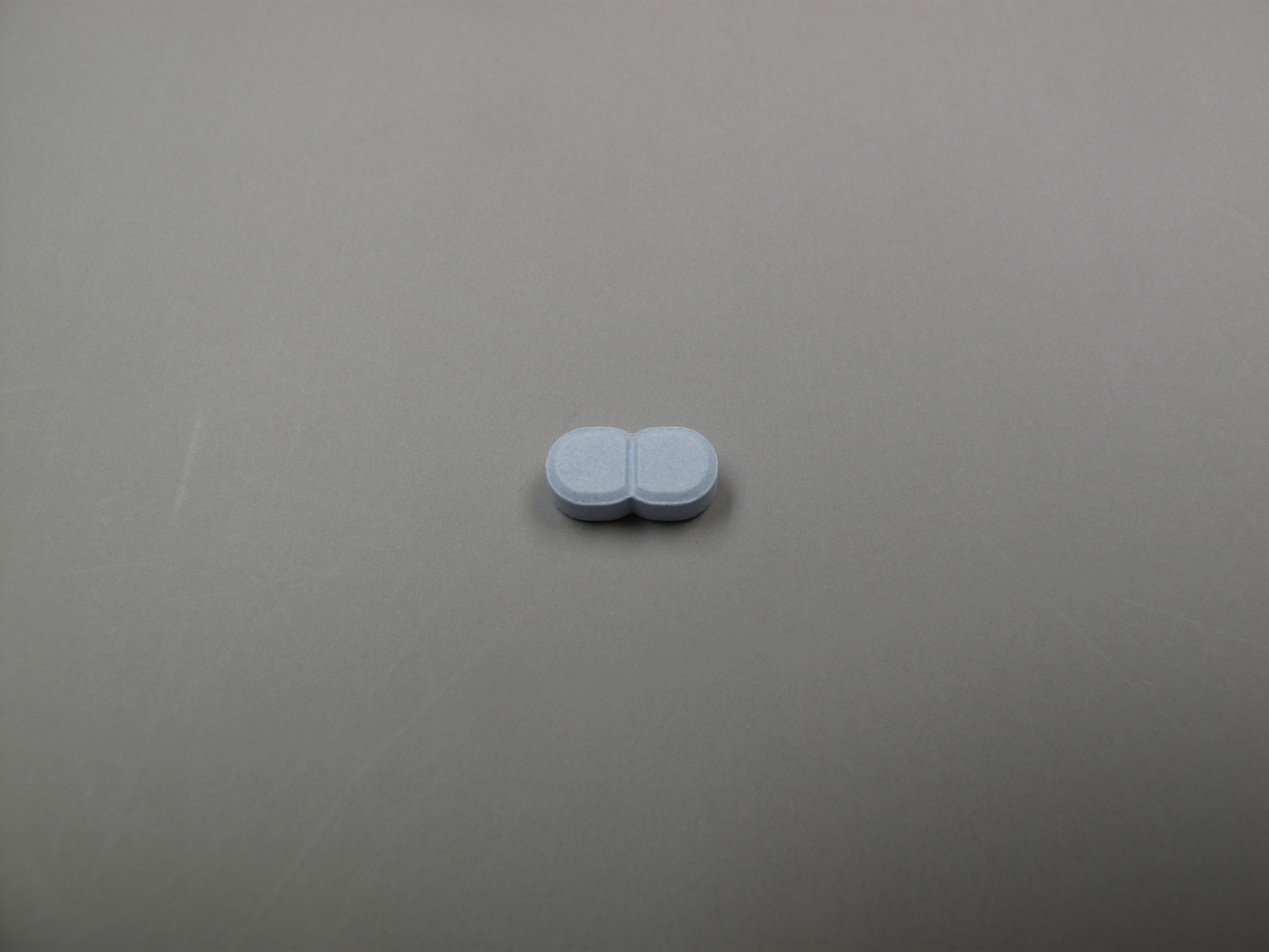Pill: (522, 402, 741, 546)
